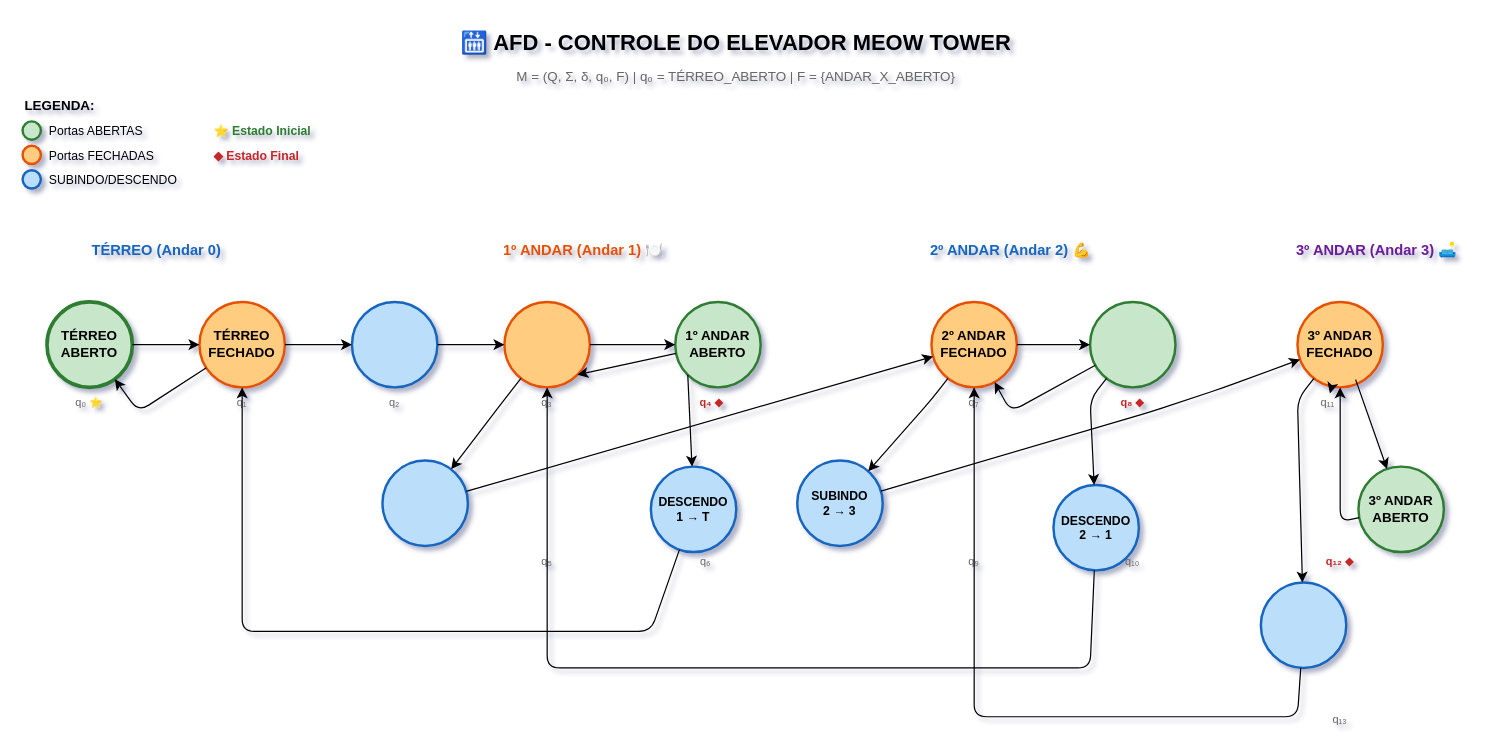
The diagram is 1496 pixels wide and 756 high, and some of its shapes have lost their labels. The box of each missing label's shape, as (x1, y1, x2, y2) in pixels:
1º ANDAR FECHADO: (503, 300, 590, 388)
2º ANDAR ABERTO: (1088, 300, 1176, 388)
DESCENDO 3 → 2: (1259, 581, 1347, 669)
SUBINDO 1 → 2: (381, 459, 468, 547)
SUBINDO T → 1: (350, 300, 438, 388)
